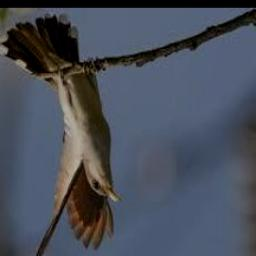Cuckoo: (0, 16, 122, 256)
